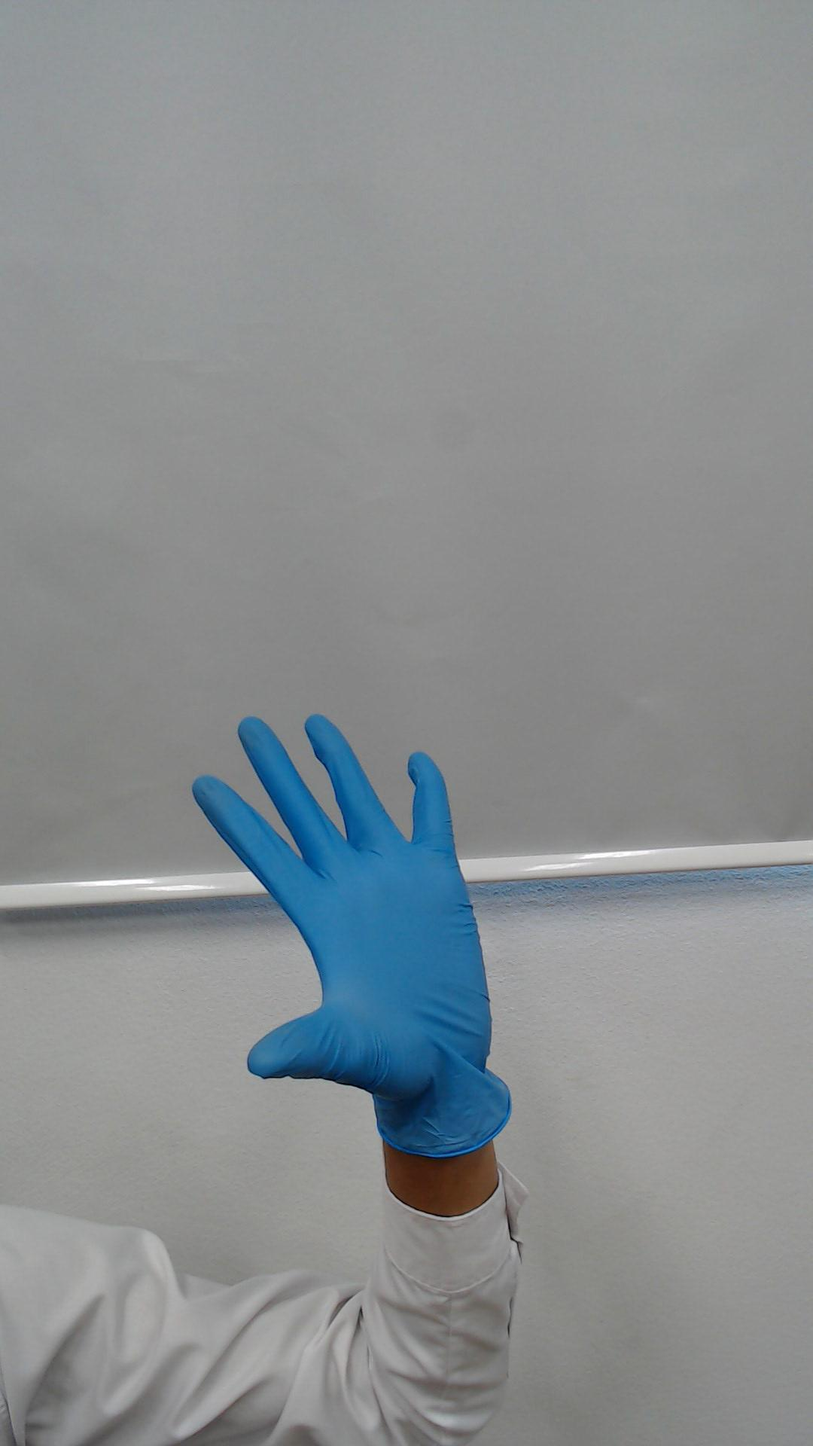gloves: (192, 678, 506, 1105)
